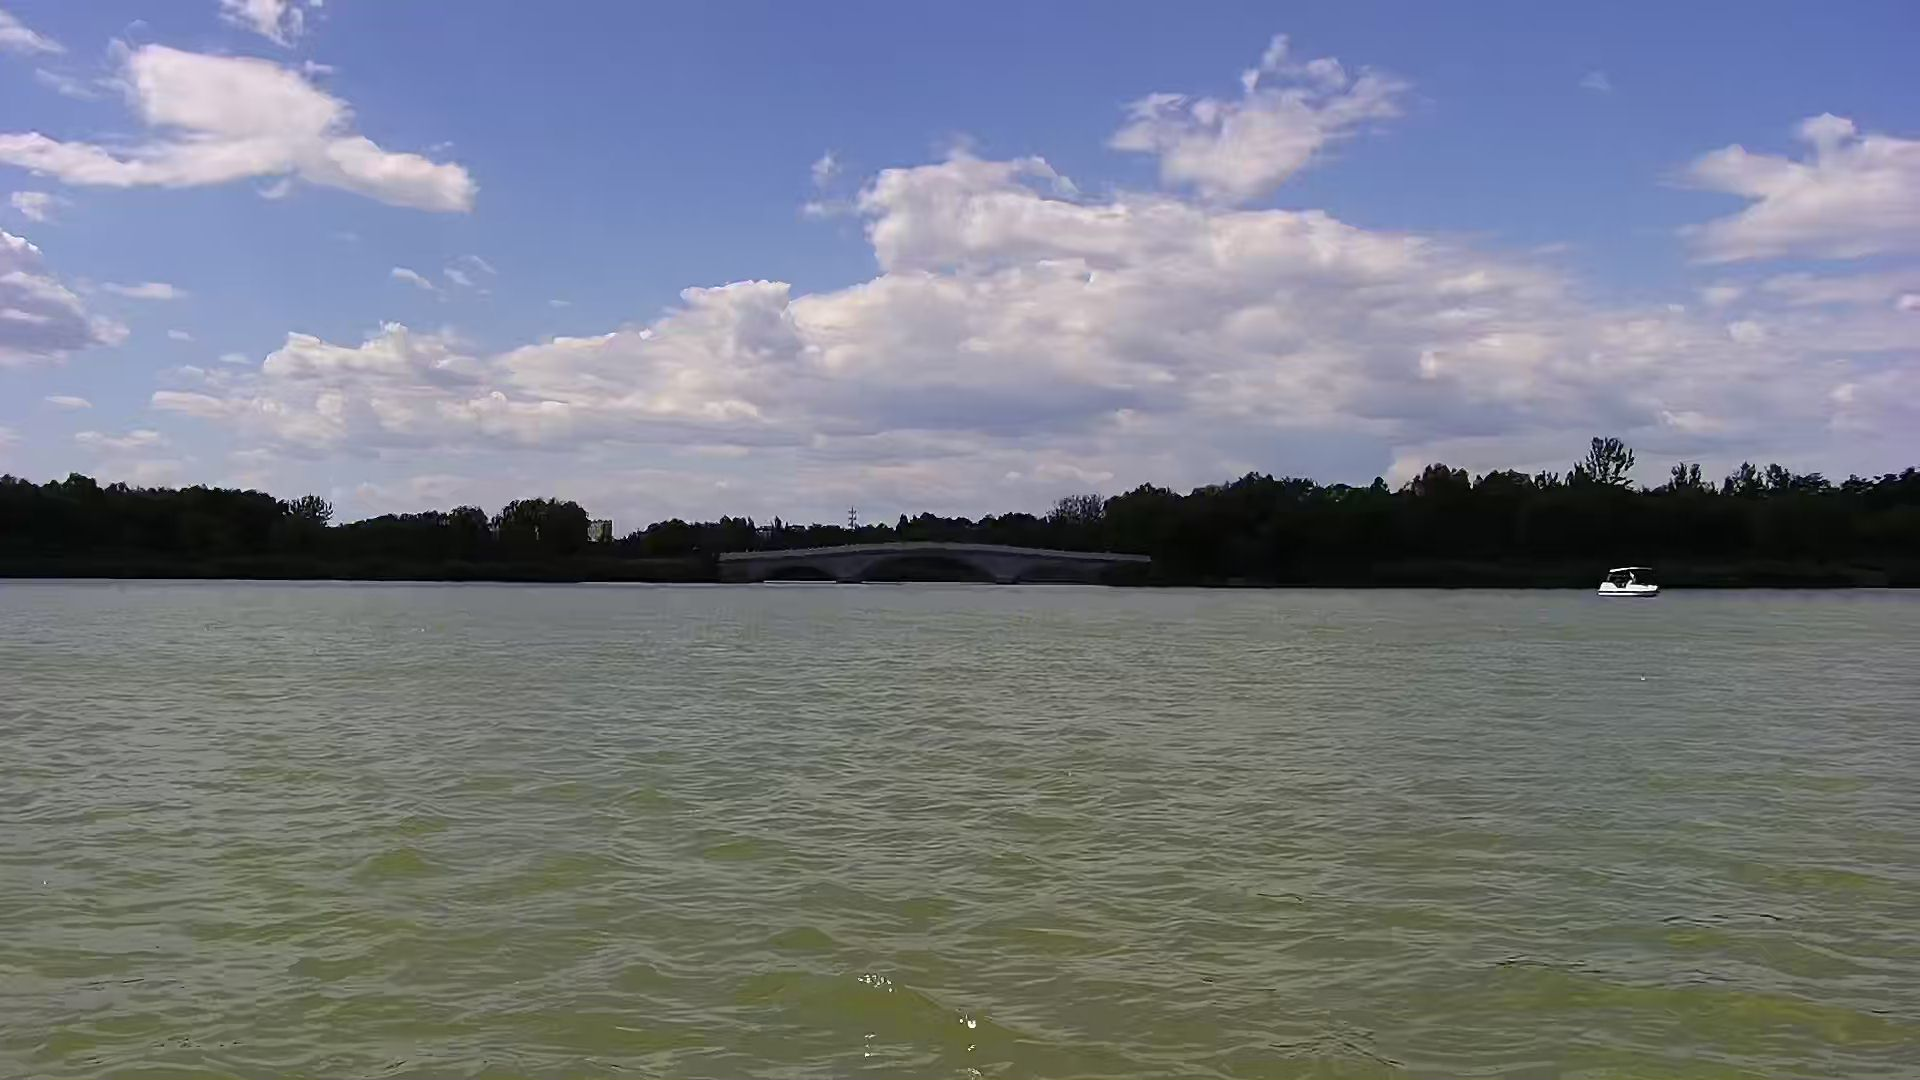boat: (1598, 560, 1665, 608)
bridge: (711, 537, 1145, 599)
